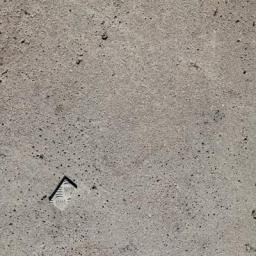FOD: (44, 175, 81, 214)
